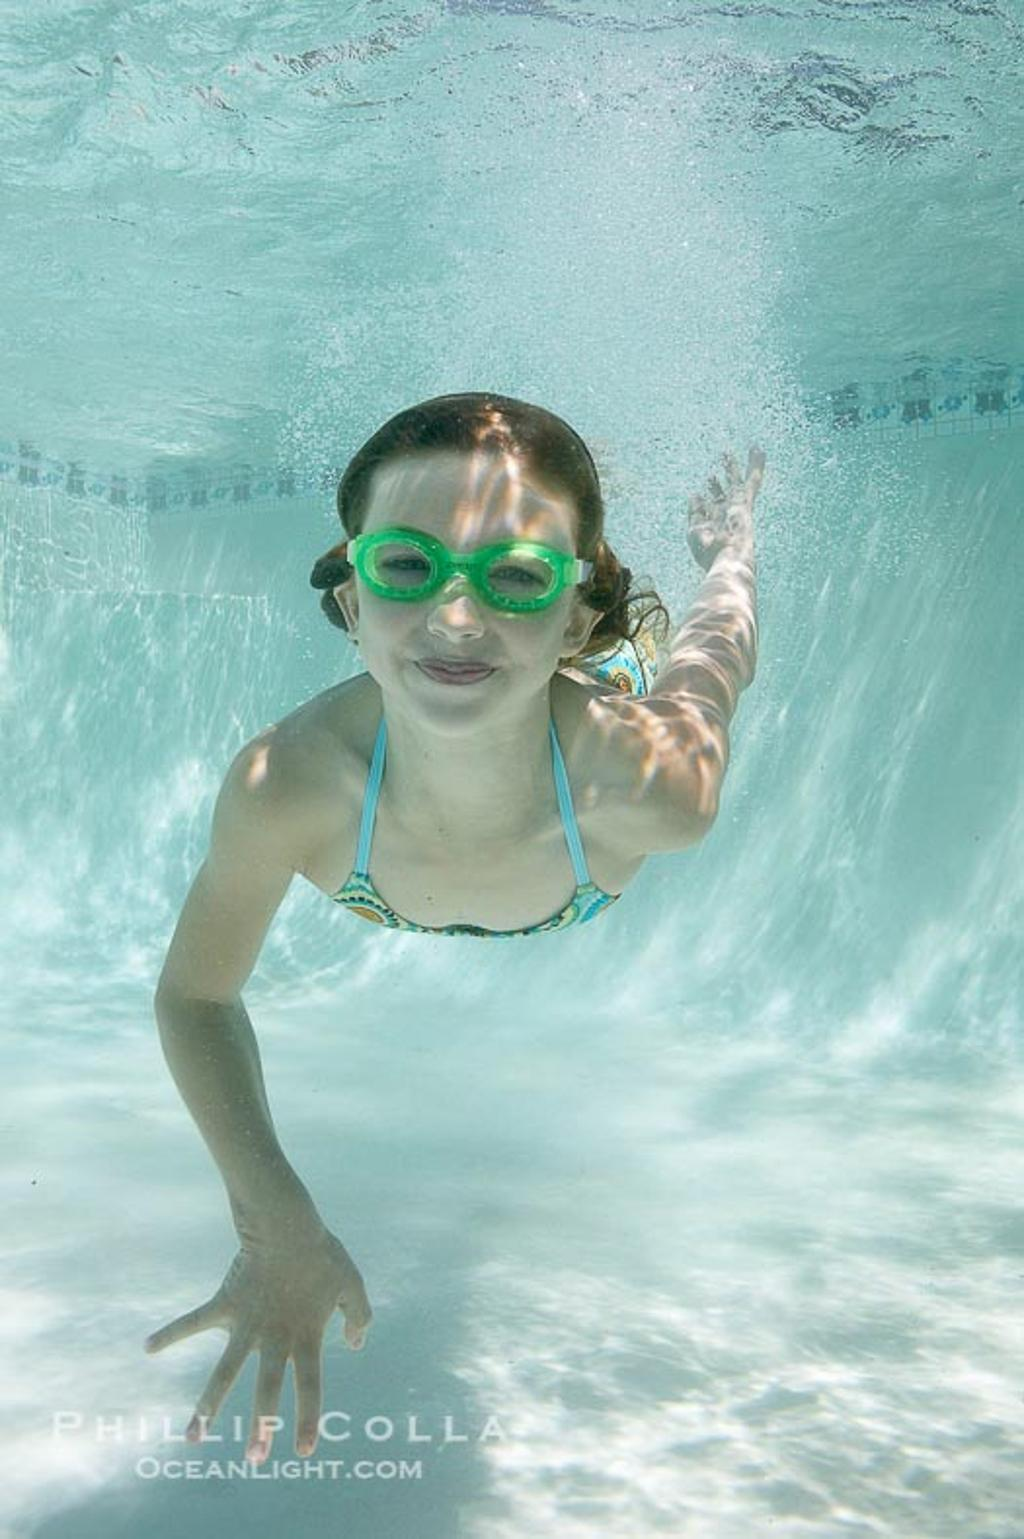face: (348, 483, 576, 735)
